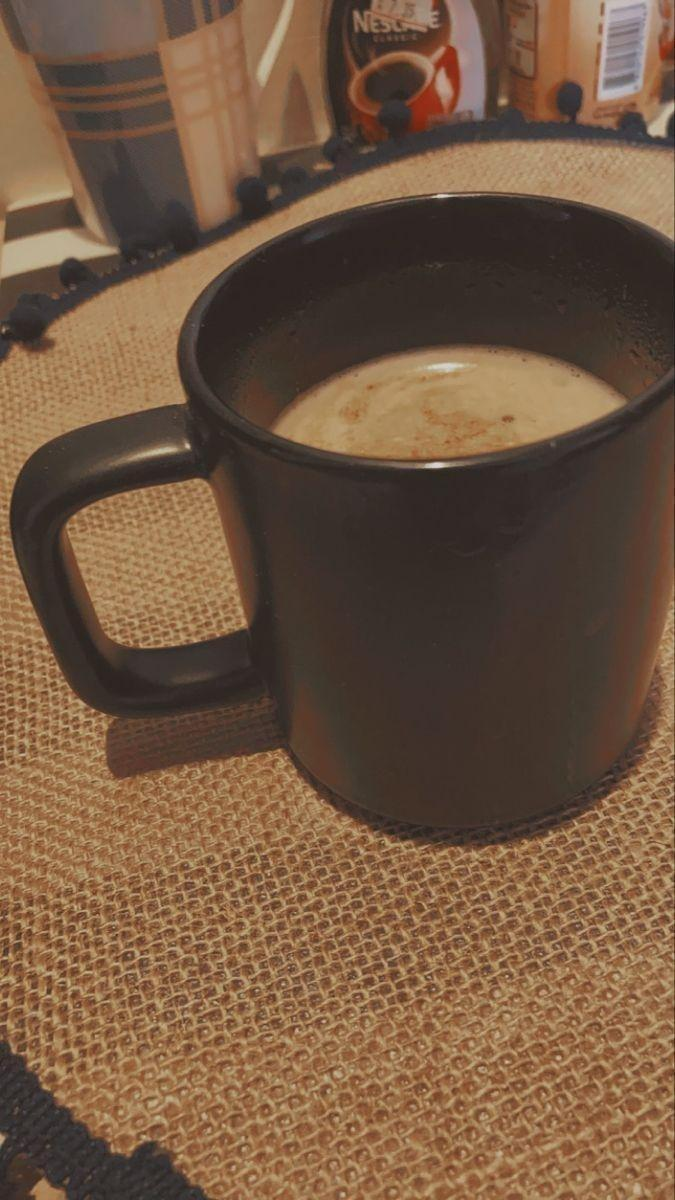cup-handle: (1, 185, 674, 837)
